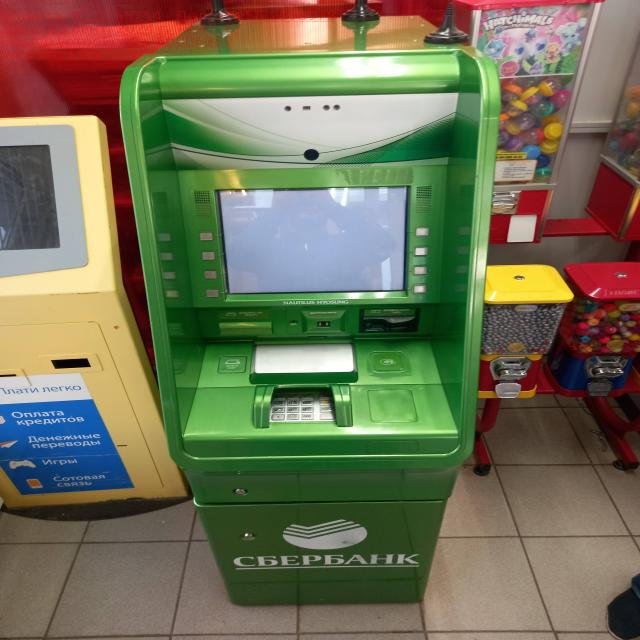bank: (120, 16, 494, 599)
